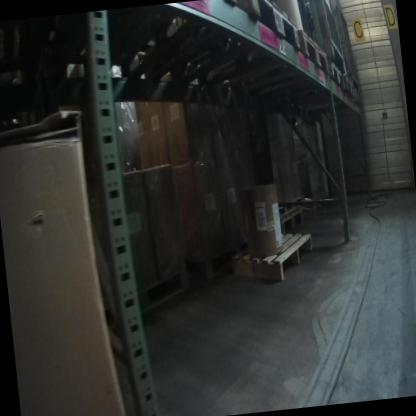pallet: (55, 0, 250, 104), (135, 0, 311, 113), (192, 22, 334, 121), (221, 220, 320, 290), (264, 55, 349, 112), (255, 199, 304, 251), (340, 74, 355, 109), (352, 87, 364, 115)
stillage: (291, 0, 349, 84), (320, 0, 363, 96)
